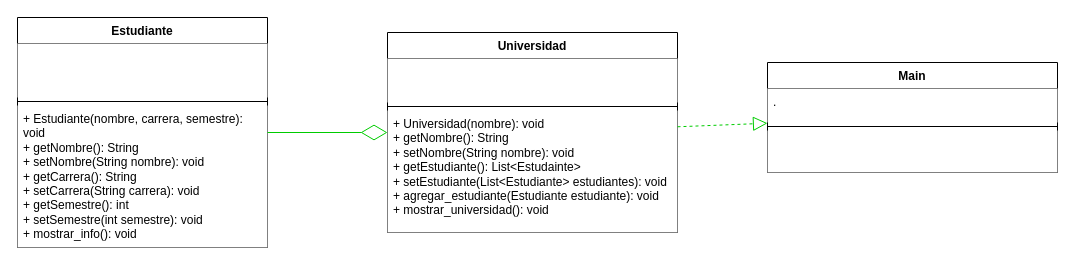
The diagram is 1075 pixels wide and 268 high, and some of its shapes have lost their labels. Here are the shapes that lost their labels. From the top down, the box of each, then its label:
(17, 43, 267, 97): - nombre: String - carrera: String - semestre: int
(387, 58, 677, 102): - nombre: String - estudintes: List<Estudiantes>
(767, 130, 1057, 172): _+_ main(String[] args): void
